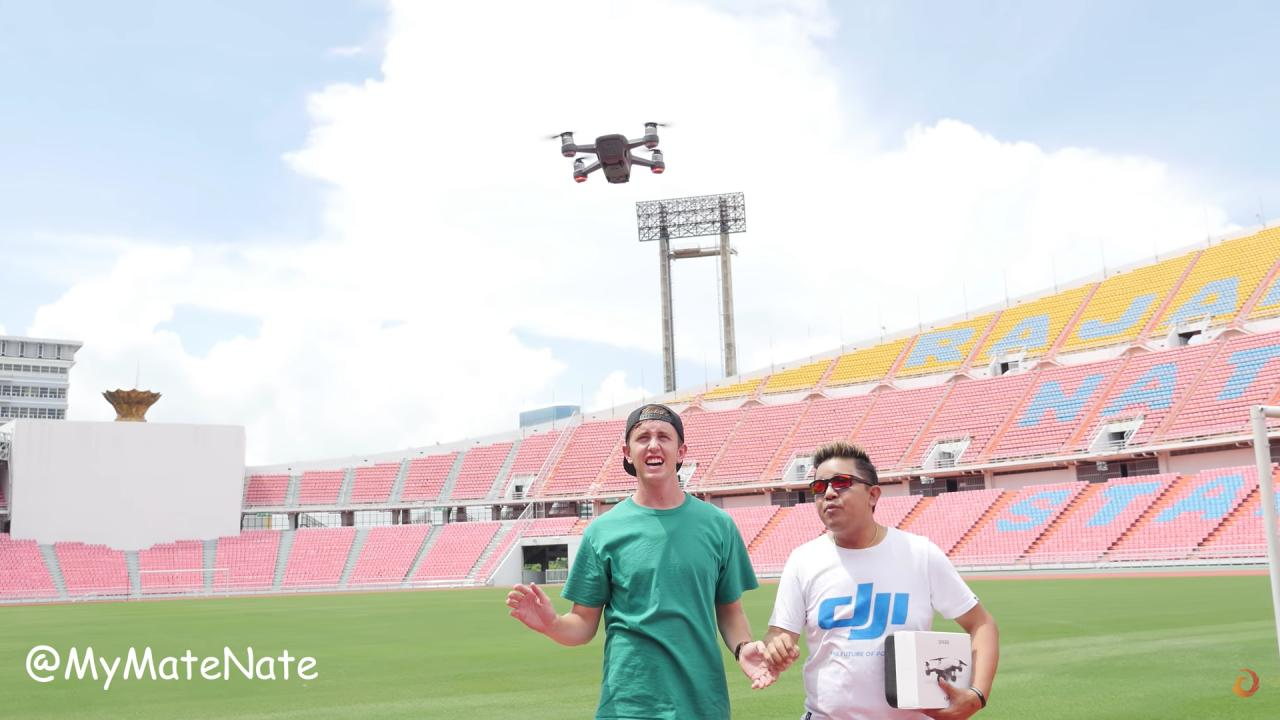Drone: (532, 104, 682, 196)
